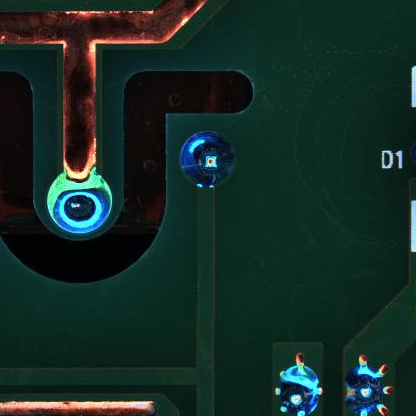spot: (46, 172, 115, 235), (273, 349, 322, 416), (344, 355, 395, 416), (180, 130, 231, 187)
